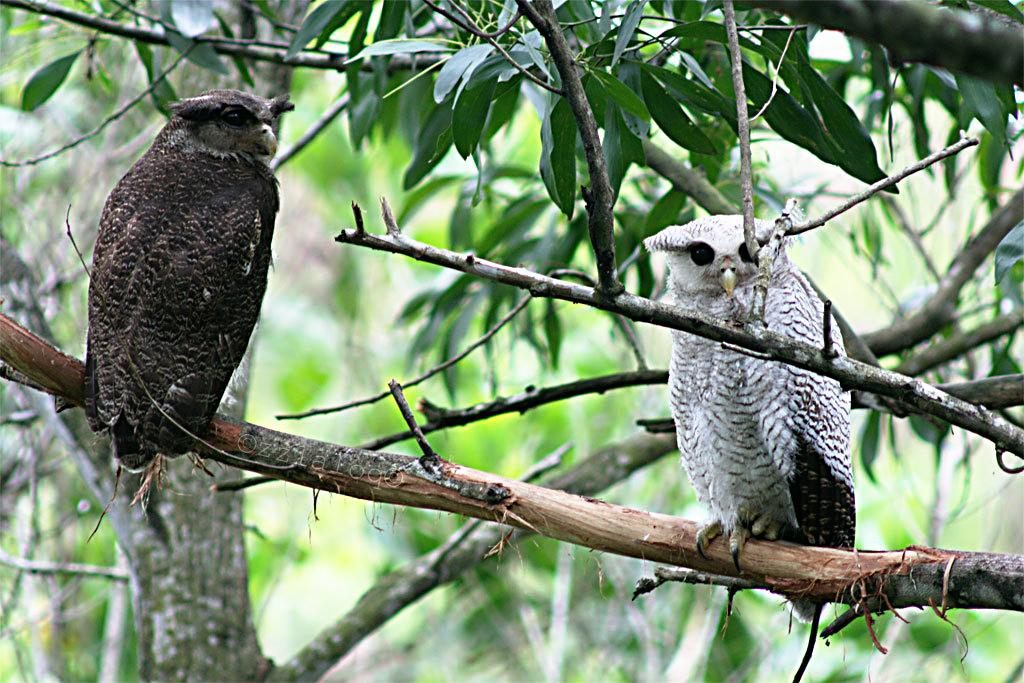Owl: (640, 209, 856, 619), (71, 90, 283, 479)
